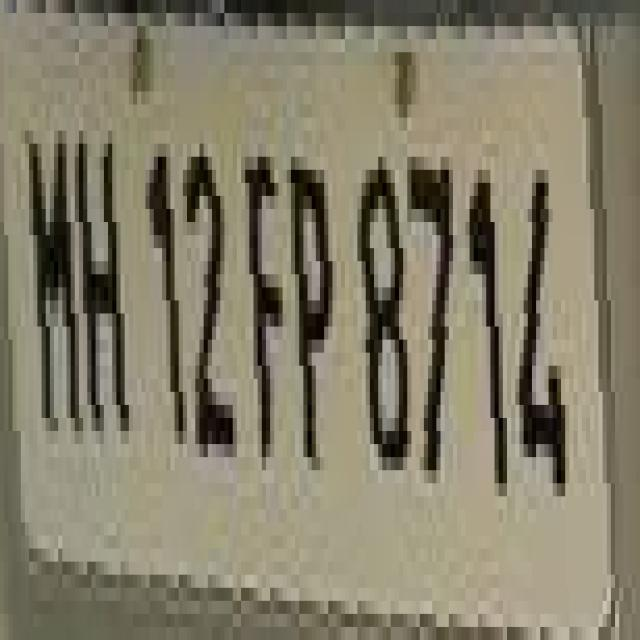license_plate: (0, 13, 619, 601)
